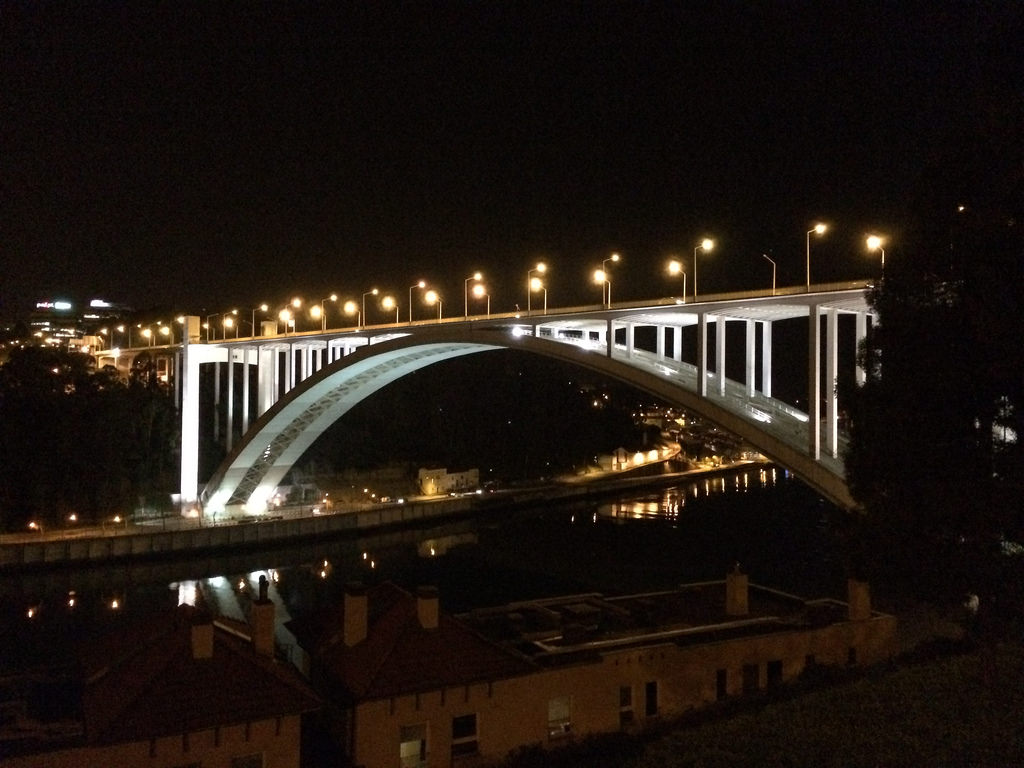arrabida: (66, 281, 887, 524)
